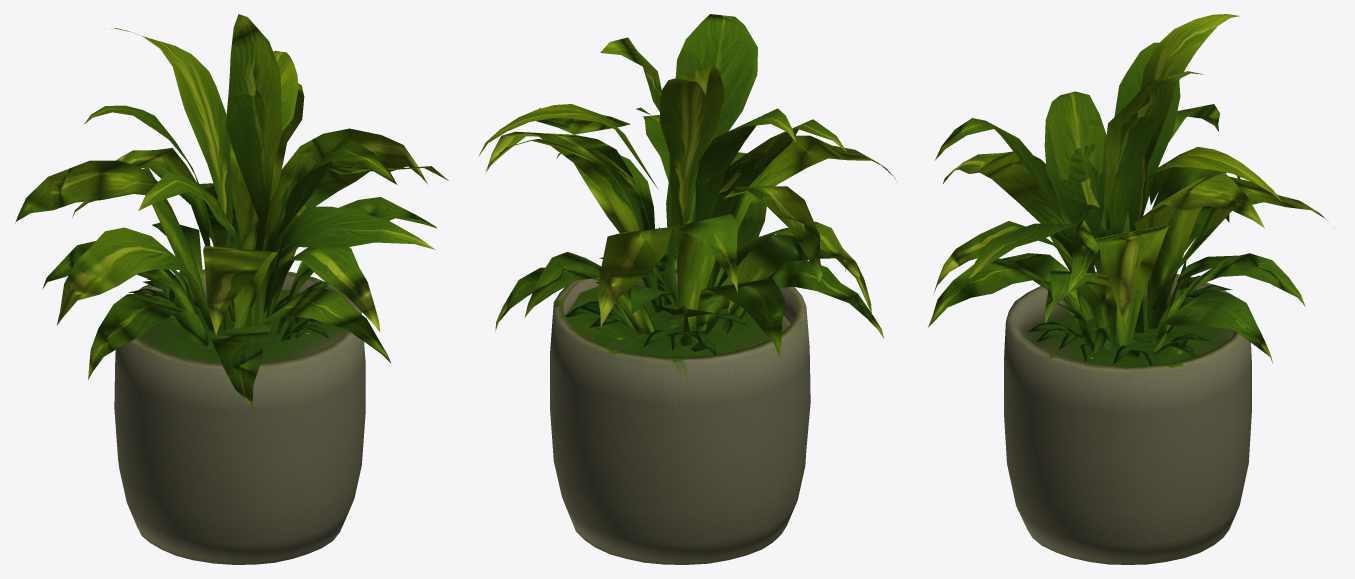
Rendered from ENV_plant_A_v001.fbx.
The picture shows the model from 3 angles, left to right: view 1: azimuth 30°, elevation 25°; view 2: azimuth 150°, elevation 25°; view 3: azimuth 270°, elevation 25°; orthographic projection. The views are drawn at different scales.
Parts seen in each view (by area): view 1: tripo_node_a561f2b6-a069-4092-8d7b-37820386c2e6; view 2: tripo_node_a561f2b6-a069-4092-8d7b-37820386c2e6; view 3: tripo_node_a561f2b6-a069-4092-8d7b-37820386c2e6.
Boxes of the visible parts, bbox=[...] form: tripo_node_a561f2b6-a069-4092-8d7b-37820386c2e6: bbox=[15, 14, 448, 564]; tripo_node_a561f2b6-a069-4092-8d7b-37820386c2e6: bbox=[478, 14, 896, 564]; tripo_node_a561f2b6-a069-4092-8d7b-37820386c2e6: bbox=[927, 14, 1334, 564].
Size of the model in its own units: 81.84 by 99.8 by 79.1.
1 material, 1 textured.
